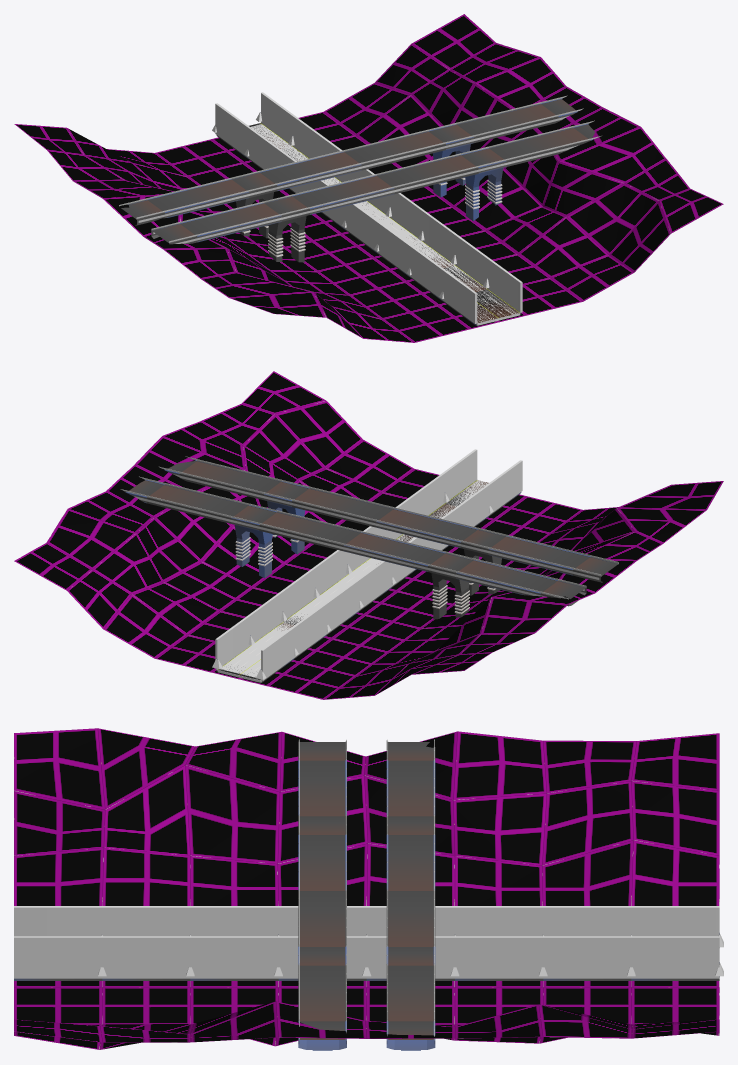
Rendered from RoadLevel2_var2.fbx.
The picture shows the model from 3 angles, top to bottom: view 1: azimuth 30°, elevation 25°; view 2: azimuth 150°, elevation 25°; view 3: azimuth 270°, elevation 25°; orthographic projection. The views are drawn at different scales.
Visible parts, largest first — view 1: RoadLevel2_var2_LOD0, RoadLevel2_cldr_walls, RoadLevel2_cldr; view 2: RoadLevel2_var2_LOD0, RoadLevel2_cldr_walls, RoadLevel2_cldr; view 3: RoadLevel2_var2_LOD0, RoadLevel2_cldr_walls, RoadLevel2_var2_GR.
Part boxes in pixels (x1,y1,x2,y2): RoadLevel2_var2_LOD0: (14, 14, 723, 342); RoadLevel2_cldr_walls: (215, 92, 522, 323); RoadLevel2_cldr: (250, 124, 520, 325); RoadLevel2_var2_LOD0: (14, 371, 723, 699); RoadLevel2_cldr_walls: (215, 449, 522, 680); RoadLevel2_cldr: (217, 480, 488, 682); RoadLevel2_var2_LOD0: (14, 728, 719, 1050); RoadLevel2_cldr_walls: (14, 906, 719, 978); RoadLevel2_var2_GR: (98, 934, 723, 976).
Size of what is drawn, in the model's own units: 426 by 60.9 by 402.
